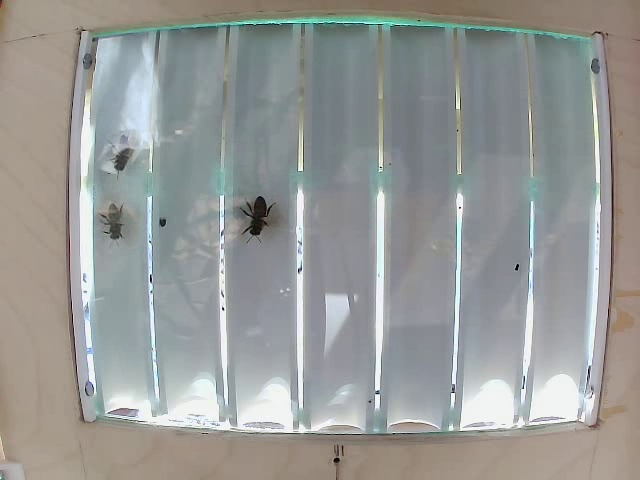bee: (237, 186, 296, 248), (94, 193, 134, 247), (110, 123, 153, 173)
